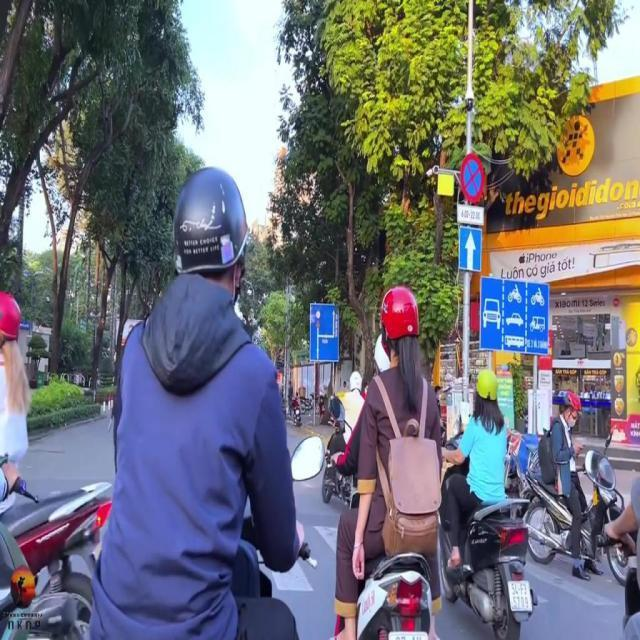130-cam-dung-va-do-xe: (456, 154, 484, 200)
407a-duong-mot-chieu: (459, 225, 482, 271)
